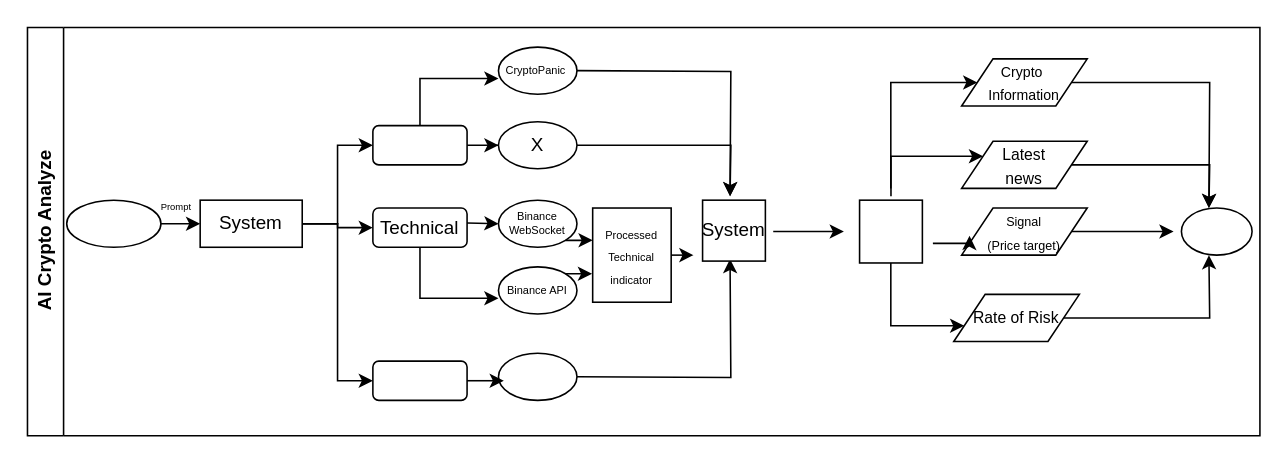
Some shapes in this 1287 by 463 pixel diagram are drawn without their labels. The shapes that lost their labels are listed below. From the top down, each one's centre as x and y in pixels, then its label:
At point 419,144: "News".
At point 113,223: "User".
At point 890,231: "Analyze by LLM".
At point 1216,230: "Output".
At point 419,380: "Fundamental".
At point 537,376: "CoinGecko".
